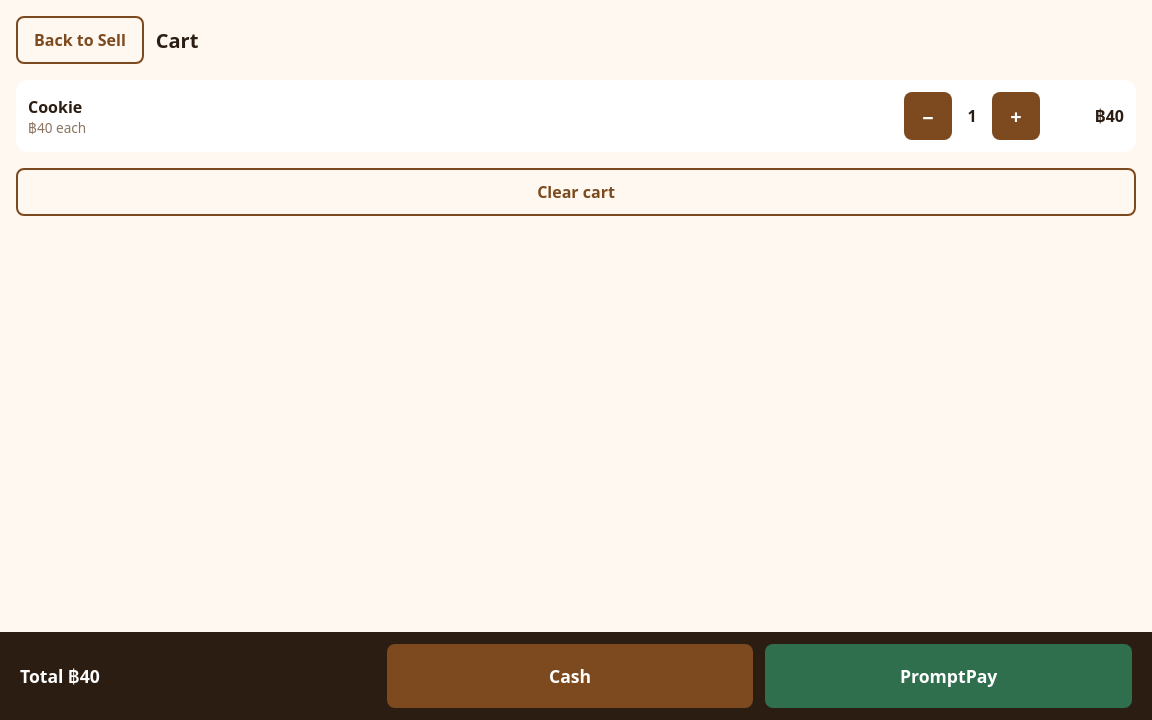
Test: CartScreen › the confirm text is singular for exactly one item and plural otherwise
This screenshot has width=1152, height=720.
What coordinates should you click on to do the following:
click the button "Clear cart"
I would click on:
 (576, 192)
Its box is 16,168 -> 1136,216.
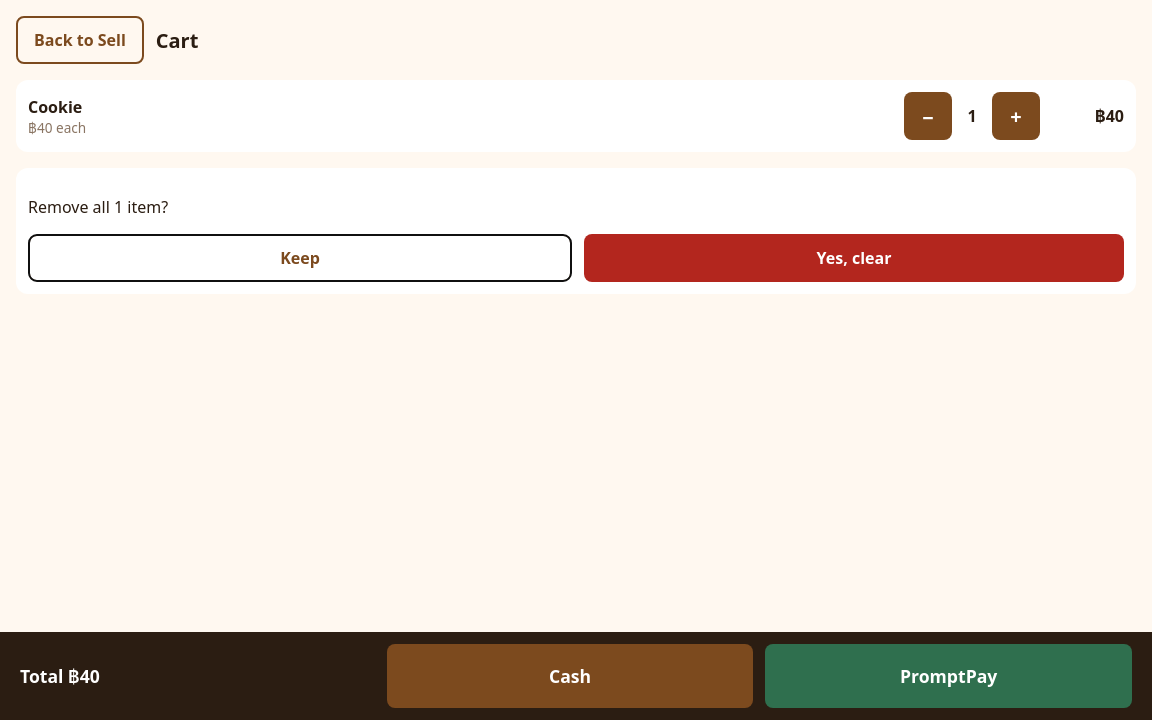
Result: the text "Remove all 1 item?" is shown at 28,196 -> 168,218
